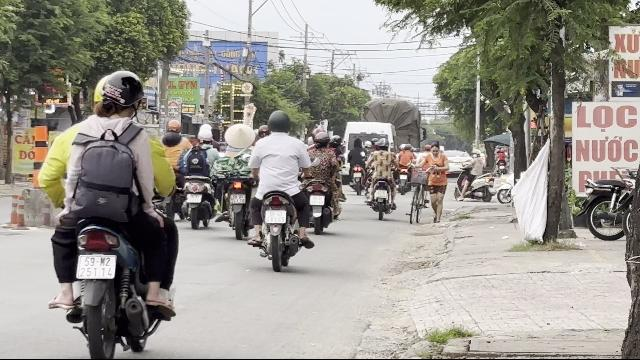helmet: (96, 70, 146, 118), (267, 110, 291, 134), (198, 128, 215, 146)
licenseplate: (77, 254, 115, 278), (266, 209, 286, 222), (186, 194, 202, 202), (230, 194, 246, 202)
motorcyclist: (37, 68, 183, 356), (246, 109, 314, 270), (212, 110, 256, 238), (178, 122, 218, 228)
nohelmet: (225, 122, 255, 148)
